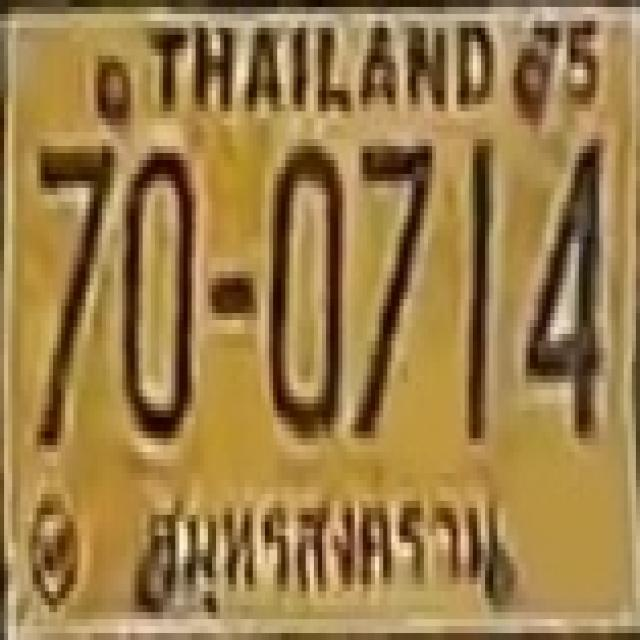0: (265, 139, 338, 431), (118, 146, 192, 431)
1: (465, 136, 489, 434)
4: (522, 132, 599, 431)
7: (35, 139, 112, 438), (351, 139, 428, 431)
SKM: (132, 474, 510, 602)
